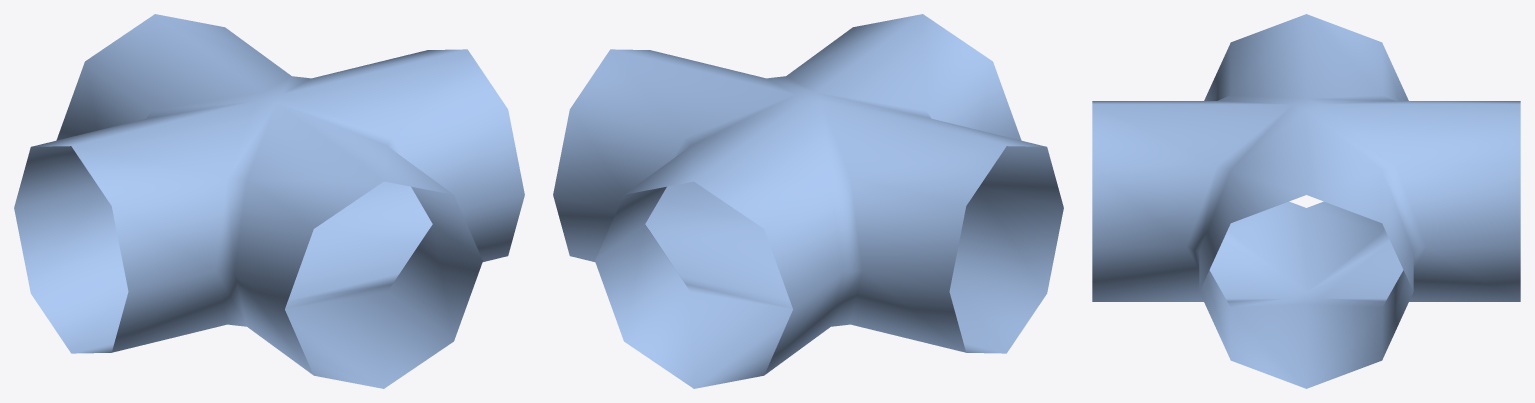
The model's file is PipeSmall_Cross_Plus.fbx.
The picture shows the model from 3 angles, left to right: view 1: azimuth 30°, elevation 25°; view 2: azimuth 150°, elevation 25°; view 3: azimuth 270°, elevation 25°; orthographic projection. The views are drawn at different scales.
Visible parts, largest first — view 1: PipeSmall_Cross_Plus.001; view 2: PipeSmall_Cross_Plus.001; view 3: PipeSmall_Cross_Plus.001.
Part boxes in pixels (<box>): PipeSmall_Cross_Plus.001: <box>14,14,524,388</box>; PipeSmall_Cross_Plus.001: <box>553,14,1063,388</box>; PipeSmall_Cross_Plus.001: <box>1092,14,1520,388</box>.
Size of the model in its own units: 0.2 by 0.1 by 0.2.
